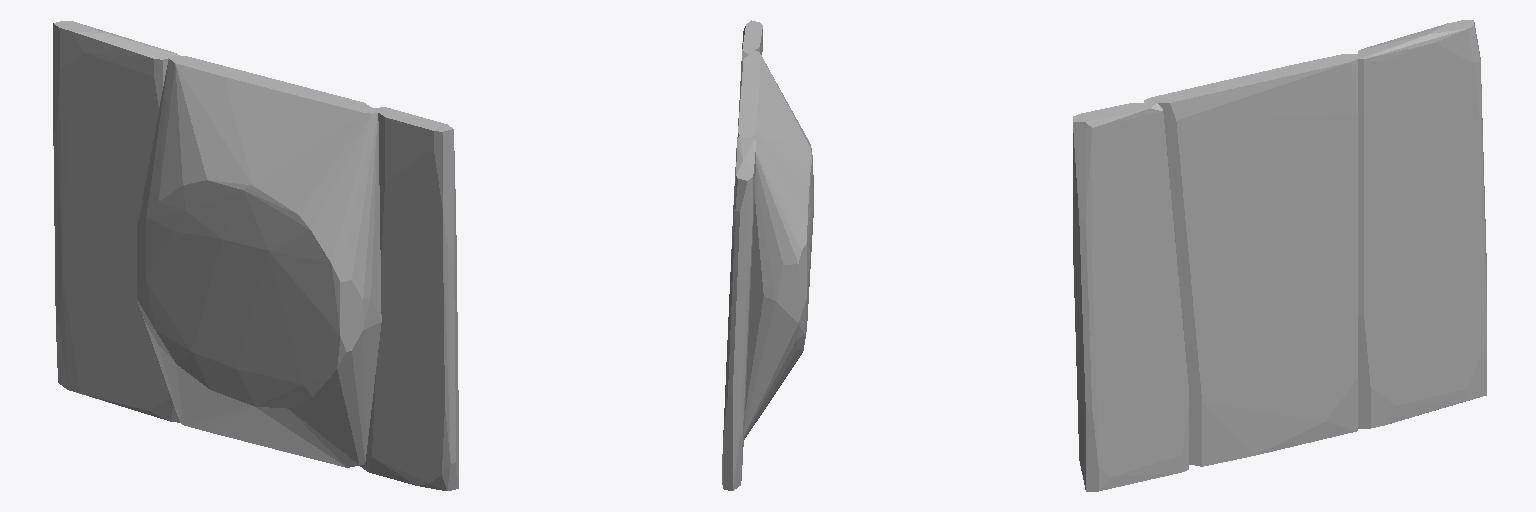
The robot description file, URDF, robot "root":
<robot name="root">
  <link name="link_kit_packaged~SoftCheese_800_tex_packaged_convex_piece_0">
    <inertial>
      <origin rpy="0 0 0" xyz="0 0 0"/>
      <mass value="9.01E-02"/>
      <inertia ixx="4.52E-04" ixy="-1.13E-04" ixz="-5.37E-06" iyy="1.81E-04" iyz="-1.55E-06" izz="3.55E-04"/>
    </inertial>
    <visual>
      <origin rpy="0 0 0" xyz="0 0 0"/>
      <geometry>
        <mesh filename="kit_packaged~SoftCheese_800_tex_packaged_convex_piece_0.obj" scale="1.0000E+00 1.0000E+00 1.0000E+00"/>
      </geometry>
      <material name="">
        <color rgba="7.50E-01 7.50E-01 7.50E-01 1"/>
      </material>
    </visual>
    <collision>
      <origin rpy="0 0 0" xyz="0 0 0"/>
      <geometry>
        <mesh filename="kit_packaged~SoftCheese_800_tex_packaged_convex_piece_0.obj" scale="1.0000E+00 1.0000E+00 1.0000E+00"/>
      </geometry>
    </collision>
  </link>
  <link name="link_kit_packaged~SoftCheese_800_tex_packaged_convex_piece_1">
    <inertial>
      <origin rpy="0 0 0" xyz="0 0 0"/>
      <mass value="4.69E-01"/>
      <inertia ixx="7.26E-04" ixy="-8.58E-05" ixz="-1.02E-05" iyy="6.08E-04" iyz="-1.95E-05" izz="2.75E-04"/>
    </inertial>
    <visual>
      <origin rpy="0 0 0" xyz="0 0 0"/>
      <geometry>
        <mesh filename="kit_packaged~SoftCheese_800_tex_packaged_convex_piece_1.obj" scale="1.0000E+00 1.0000E+00 1.0000E+00"/>
      </geometry>
      <material name="">
        <color rgba="7.50E-01 7.50E-01 7.50E-01 1"/>
      </material>
    </visual>
    <collision>
      <origin rpy="0 0 0" xyz="0 0 0"/>
      <geometry>
        <mesh filename="kit_packaged~SoftCheese_800_tex_packaged_convex_piece_1.obj" scale="1.0000E+00 1.0000E+00 1.0000E+00"/>
      </geometry>
    </collision>
  </link>
  <joint name="link_kit_packaged~SoftCheese_800_tex_packaged_convex_piece_1_joint" type="fixed">
    <origin rpy="0 0 0" xyz="0 0 0"/>
    <parent link="link_kit_packaged~SoftCheese_800_tex_packaged_convex_piece_0"/>
    <child link="link_kit_packaged~SoftCheese_800_tex_packaged_convex_piece_1"/>
  </joint>
  <link name="link_kit_packaged~SoftCheese_800_tex_packaged_convex_piece_2">
    <inertial>
      <origin rpy="0 0 0" xyz="0 0 0"/>
      <mass value="6.31E-02"/>
      <inertia ixx="2.18E-04" ixy="-9.68E-05" ixz="-8.44E-06" iyy="1.74E-04" iyz="3.65E-06" izz="2.00E-04"/>
    </inertial>
    <visual>
      <origin rpy="0 0 0" xyz="0 0 0"/>
      <geometry>
        <mesh filename="kit_packaged~SoftCheese_800_tex_packaged_convex_piece_2.obj" scale="1.0000E+00 1.0000E+00 1.0000E+00"/>
      </geometry>
      <material name="">
        <color rgba="7.50E-01 7.50E-01 7.50E-01 1"/>
      </material>
    </visual>
    <collision>
      <origin rpy="0 0 0" xyz="0 0 0"/>
      <geometry>
        <mesh filename="kit_packaged~SoftCheese_800_tex_packaged_convex_piece_2.obj" scale="1.0000E+00 1.0000E+00 1.0000E+00"/>
      </geometry>
    </collision>
  </link>
  <joint name="link_kit_packaged~SoftCheese_800_tex_packaged_convex_piece_2_joint" type="fixed">
    <origin rpy="0 0 0" xyz="0 0 0"/>
    <parent link="link_kit_packaged~SoftCheese_800_tex_packaged_convex_piece_1"/>
    <child link="link_kit_packaged~SoftCheese_800_tex_packaged_convex_piece_2"/>
  </joint>
</robot>

--- Facts derived from the render (not from the file) ---
The picture shows the robot from 3 angles, left to right: view 1: azimuth 30°, elevation 25°; view 2: azimuth 150°, elevation 25°; view 3: azimuth 270°, elevation 25°; orthographic projection.
Model root with 3 links and 2 joints (2 fixed), rooted at link_kit_packaged~SoftCheese_800_tex_packaged_convex_piece_0, posed all joints at 0.
Visible links, largest first — view 1: link_kit_packaged~SoftCheese_800_tex_packaged_convex_piece_1, link_kit_packaged~SoftCheese_800_tex_packaged_convex_piece_0, link_kit_packaged~SoftCheese_800_tex_packaged_convex_piece_2; view 2: link_kit_packaged~SoftCheese_800_tex_packaged_convex_piece_1, link_kit_packaged~SoftCheese_800_tex_packaged_convex_piece_0, link_kit_packaged~SoftCheese_800_tex_packaged_convex_piece_2; view 3: link_kit_packaged~SoftCheese_800_tex_packaged_convex_piece_1, link_kit_packaged~SoftCheese_800_tex_packaged_convex_piece_0, link_kit_packaged~SoftCheese_800_tex_packaged_convex_piece_2.
Link boxes in pixels (box(x1,y1,x2,y2)): link_kit_packaged~SoftCheese_800_tex_packaged_convex_piece_1: box(137, 56, 381, 467); link_kit_packaged~SoftCheese_800_tex_packaged_convex_piece_0: box(53, 21, 179, 422); link_kit_packaged~SoftCheese_800_tex_packaged_convex_piece_2: box(360, 107, 458, 490); link_kit_packaged~SoftCheese_800_tex_packaged_convex_piece_1: box(737, 51, 813, 439); link_kit_packaged~SoftCheese_800_tex_packaged_convex_piece_0: box(722, 136, 755, 490); link_kit_packaged~SoftCheese_800_tex_packaged_convex_piece_2: box(741, 20, 762, 70); link_kit_packaged~SoftCheese_800_tex_packaged_convex_piece_1: box(1144, 54, 1357, 466); link_kit_packaged~SoftCheese_800_tex_packaged_convex_piece_0: box(1358, 20, 1486, 428); link_kit_packaged~SoftCheese_800_tex_packaged_convex_piece_2: box(1073, 103, 1188, 491).
Bounding box of the posed robot: 0.0816 × 0.1411 × 0.1389 m (x, y, z).
Meshes: 3 distinct files referenced, 3 mesh visuals loaded (3 OBJ).
